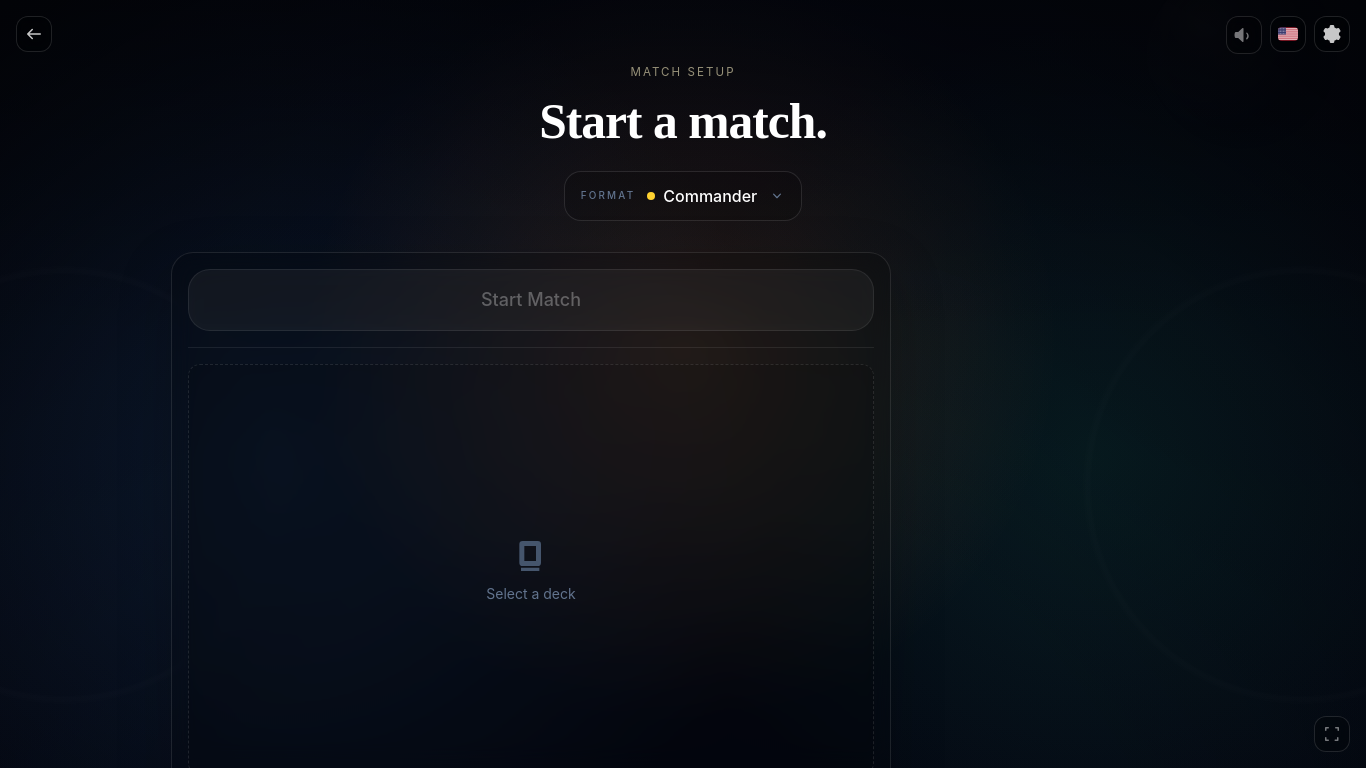
it: GameSetupPage — cEDH bracket warning chip › offers implemented multiplayer variants in the format picker
Click the button "Format Commander": (683, 196) [565,172,801,220]
(page scrolled)
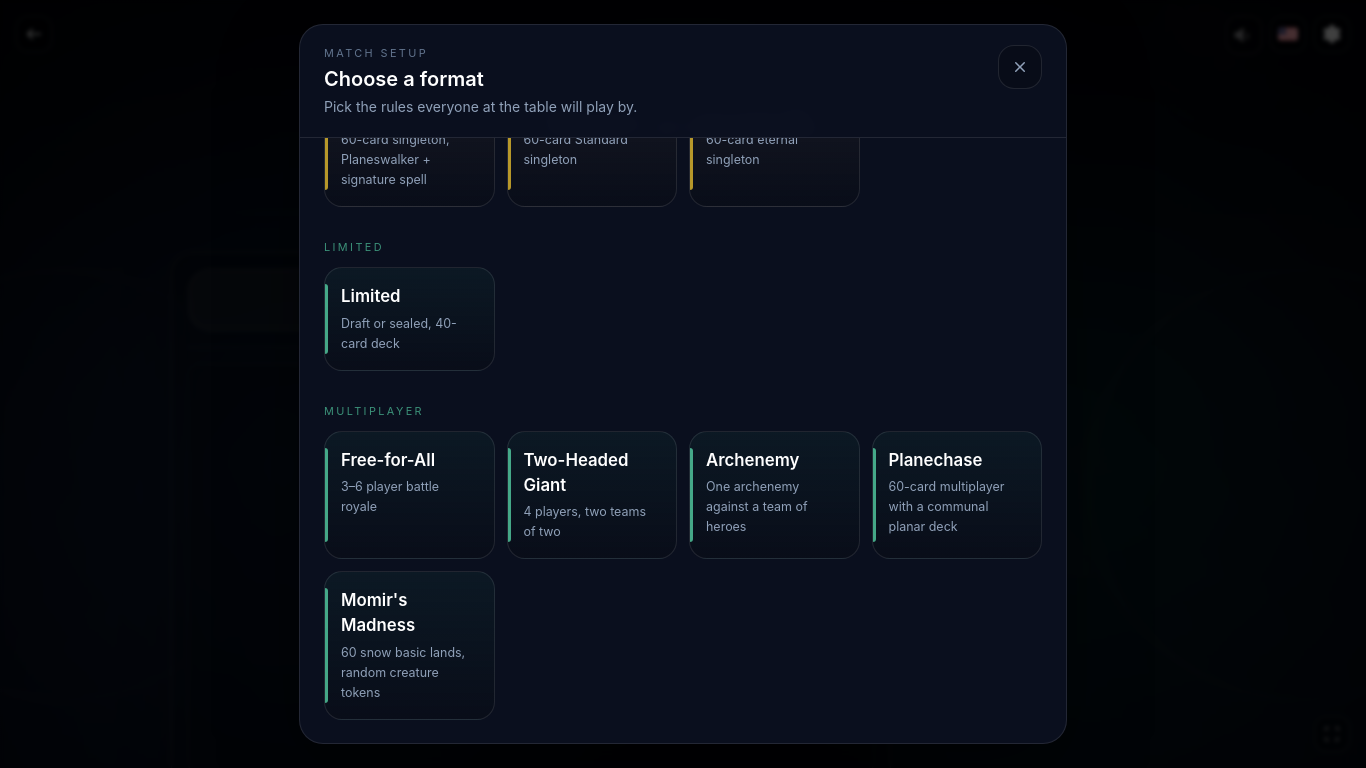
Now the text "Two-Headed Giant" is shown, box [524,450,628,495]
Now the text "Planechase" is shown, box [888,448,982,473]
Now the text "Archenemy" is shown, box [706,448,799,473]
